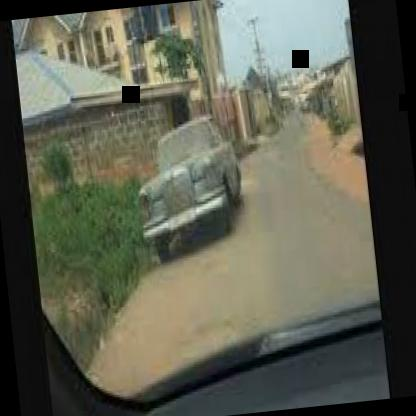car: (124, 116, 262, 270)
